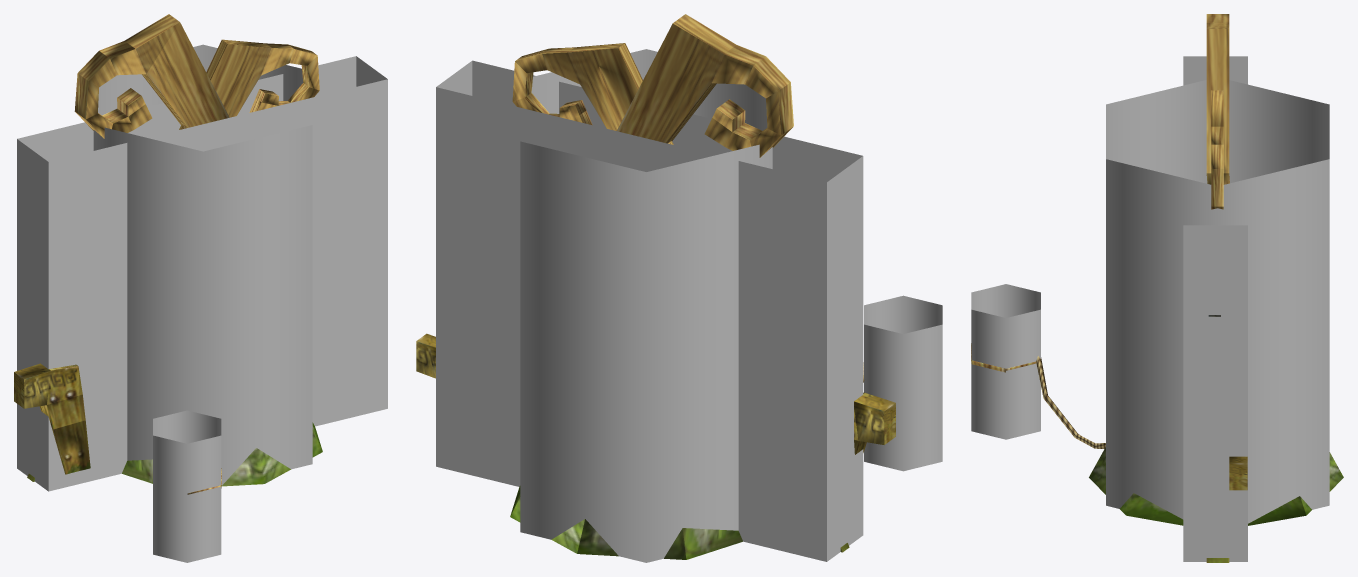
Rendered from Shuijing.FBX.
The picture shows the model from 3 angles, left to right: view 1: azimuth 30°, elevation 25°; view 2: azimuth 150°, elevation 25°; view 3: azimuth 270°, elevation 25°; orthographic projection. The views are drawn at different scales.
Parts seen in each view (by area): view 1: Cylinder001, Shuijing_01_a; view 2: Cylinder001, Shuijing_01_a; view 3: Cylinder001, Shuijing_01_a.
Part boxes in pixels (<box>): Cylinder001: <box>17,44,387,562</box>; Shuijing_01_a: <box>14,14,322,494</box>; Cylinder001: <box>436,49,942,562</box>; Shuijing_01_a: <box>416,14,895,559</box>; Cylinder001: <box>971,56,1329,561</box>; Shuijing_01_a: <box>971,14,1343,562</box>.
Bounding box in the file's own units: 2.33 × 2.5 × 1.92.
Materials: 1 (1 with a texture image).
